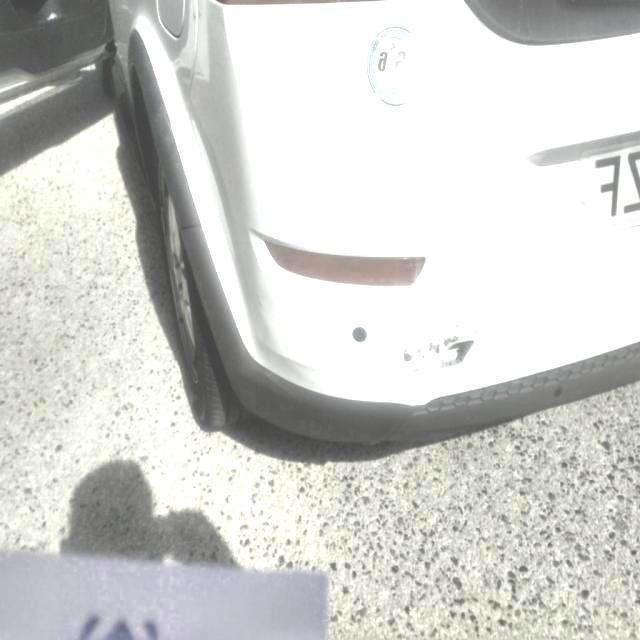minor: (365, 295, 504, 382)
